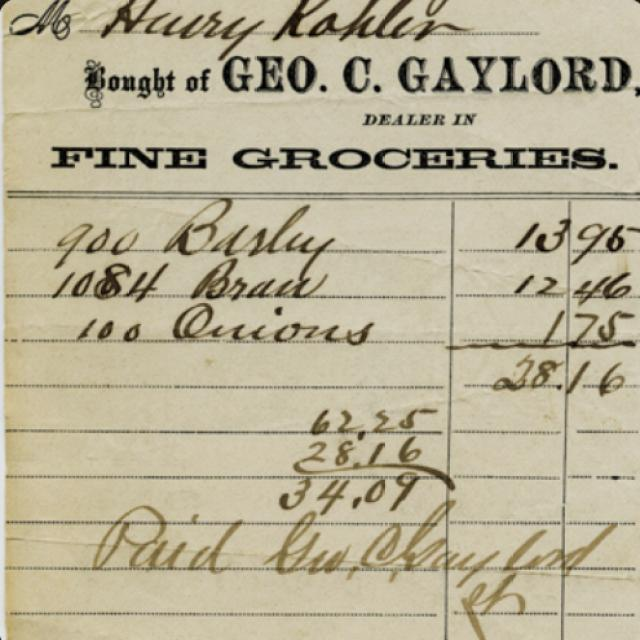items: (35, 204, 640, 350)
shop: (34, 112, 614, 202)
tax: (469, 354, 640, 410)
tot: (247, 396, 538, 536)
